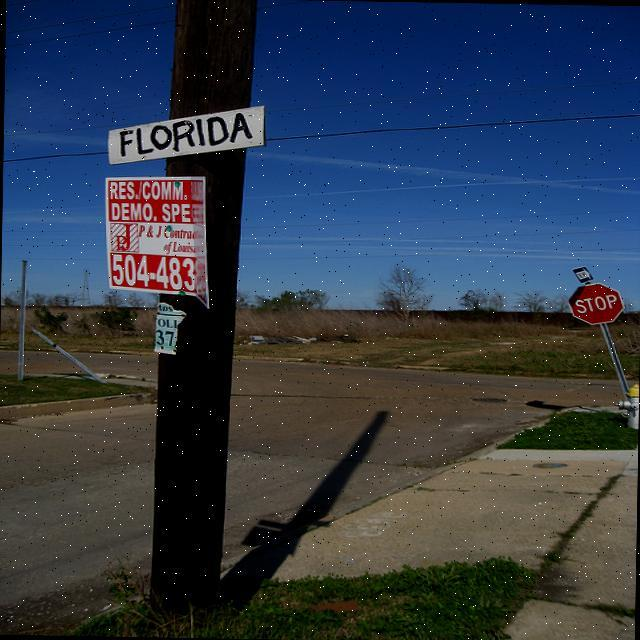fire_hydrant: (616, 382, 638, 428)
